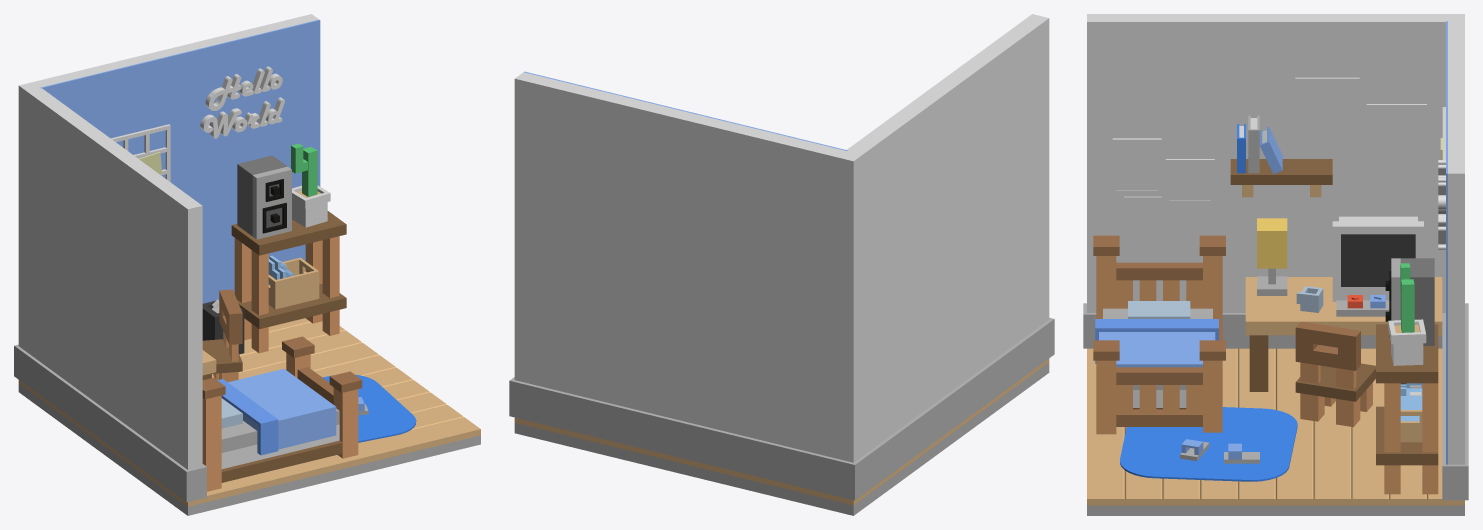
File: room_cleared.gltf
3 renders of one model, left to right at view 1: azimuth 30°, elevation 25°; view 2: azimuth 150°, elevation 25°; view 3: azimuth 270°, elevation 25°, orthographic. The views are drawn at different scales.
Visible parts, largest first — view 1: wall_main, wall_cover2, wall_bar, floor_wood9, bed_bedding2, floor_main, rug, table_body2, box, table_body1, bed_floor, bed_up2 (+30 smaller); view 2: wall_main, wall_bar, floor_main, floor_wood4; view 3: wall_cover1, wall_main, rug, desk_top, wall_bar, image1, floor_main, image2, floor_wood1, floor_wood9, floor_wood8, bed_bedding2 (+58 smaller).
Boxes of the visible parts, <box> form: wall_main: <box>18,14,318,469</box>; wall_cover2: <box>40,19,320,303</box>; wall_bar: <box>14,344,206,502</box>; floor_wood9: <box>171,417,480,506</box>; bed_bedding2: <box>228,368,336,453</box>; floor_main: <box>18,383,480,515</box>; rug: <box>322,374,416,442</box>; table_body2: <box>231,211,346,255</box>; box: <box>268,257,319,309</box>; table_body1: <box>237,283,346,329</box>; bed_floor: <box>221,440,342,482</box>; bed_up2: <box>202,395,221,491</box>; wall_main: <box>514,14,1049,462</box>; wall_bar: <box>509,317,1054,500</box>; floor_main: <box>514,362,1049,515</box>; floor_wood4: <box>514,417,873,505</box>; wall_cover1: <box>1087,21,1445,312</box>; wall_main: <box>1087,14,1464,464</box>; rug: <box>1120,407,1297,481</box>; desk_top: <box>1245,277,1442,335</box>; wall_bar: <box>1083,303,1468,500</box>; image1: <box>1366,104,1426,173</box>; floor_main: <box>1087,505,1464,515</box>; image2: <box>1295,77,1359,136</box>; floor_wood1: <box>1276,348,1313,505</box>; floor_wood9: <box>1087,348,1124,505</box>; floor_wood8: <box>1313,401,1351,505</box>; bed_bedding2: <box>1099,332,1215,367</box>.
Bounding box in the file's own units: 102 × 100 × 102.
